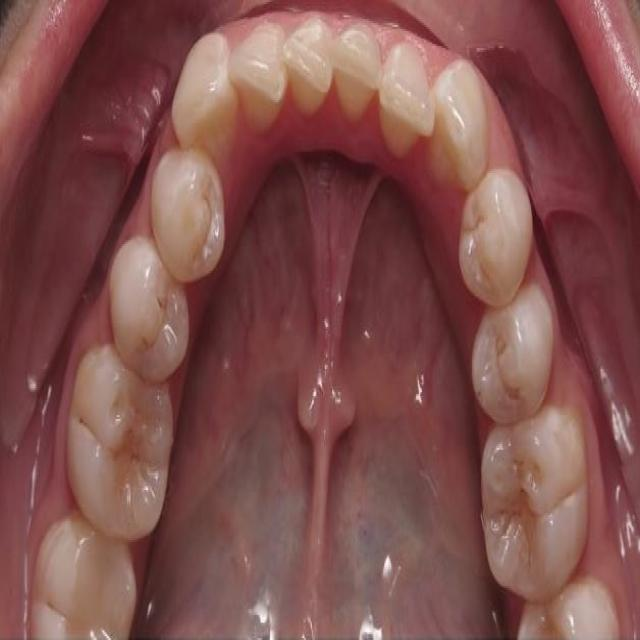1st Molar: (67, 344, 174, 540), (482, 405, 587, 600)
1st Premolar: (459, 171, 533, 309), (152, 152, 226, 284)
2nd Molar: (31, 517, 138, 640), (519, 578, 619, 638)
2nd Premolar: (469, 290, 555, 429), (110, 238, 189, 382)
Canine: (170, 29, 237, 161), (428, 60, 491, 192)
Central Incisor: (282, 10, 333, 117), (332, 18, 386, 117)
Lateral Incisor: (378, 42, 435, 164), (231, 25, 288, 136)
